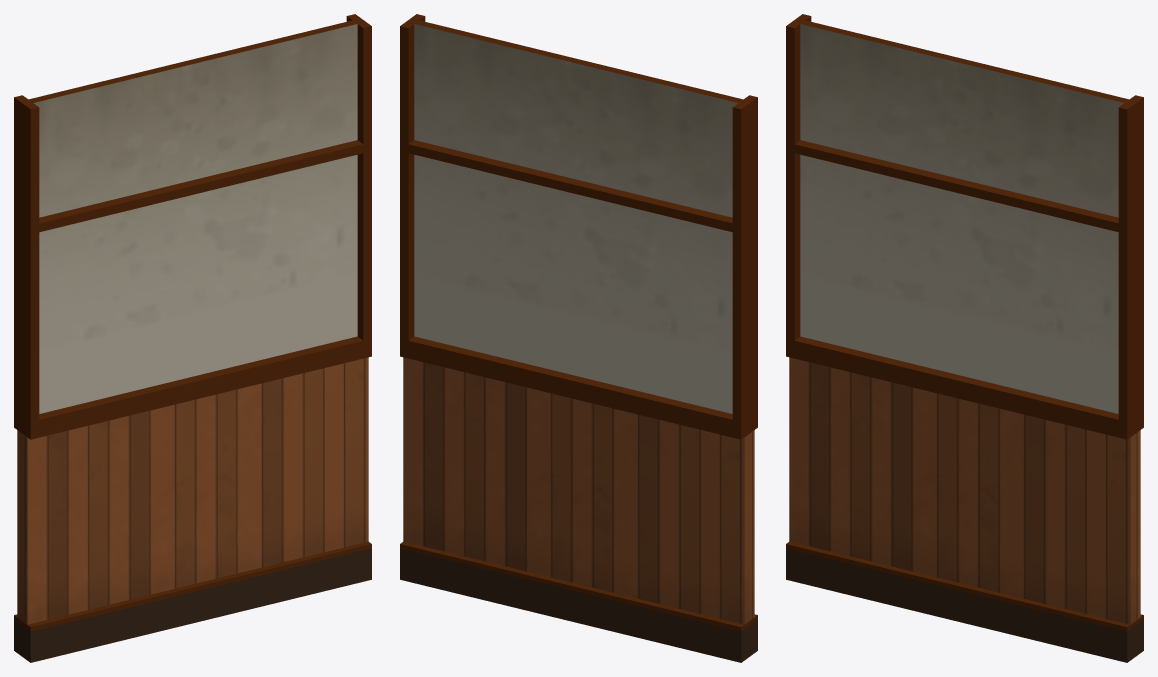
Rendered from Bld_Dojo_Wall.fbx.
3 views of the same model, side by side, from view 1: azimuth 30°, elevation 25°; view 2: azimuth 150°, elevation 25°; view 3: azimuth 330°, elevation 25° (orthographic).
Visible parts, largest first — view 1: Bld_Dojo_Wall; view 2: Bld_Dojo_Wall; view 3: Bld_Dojo_Wall.
Boxes of the visible parts, x1=… form: Bld_Dojo_Wall: x1=14, y1=14, x2=371, y2=662; Bld_Dojo_Wall: x1=400, y1=14, x2=757, y2=662; Bld_Dojo_Wall: x1=786, y1=14, x2=1143, y2=662.
Bounding box in the file's own units: 400 × 620 × 33.8.
